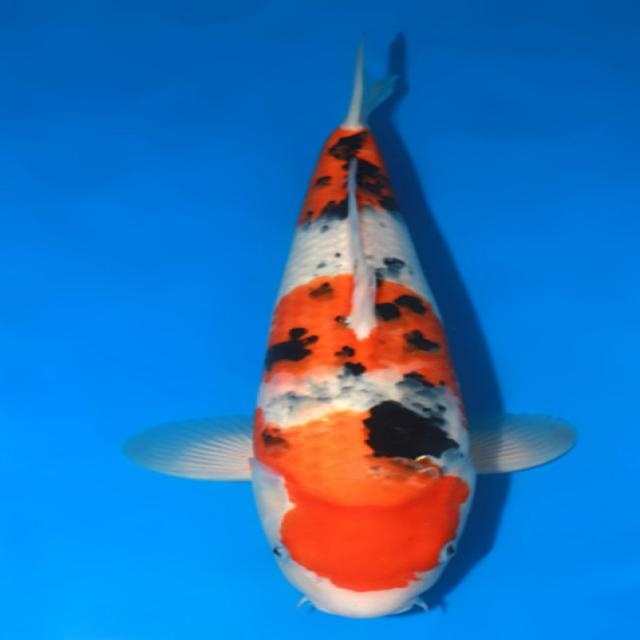Sanke: (122, 29, 577, 619)
